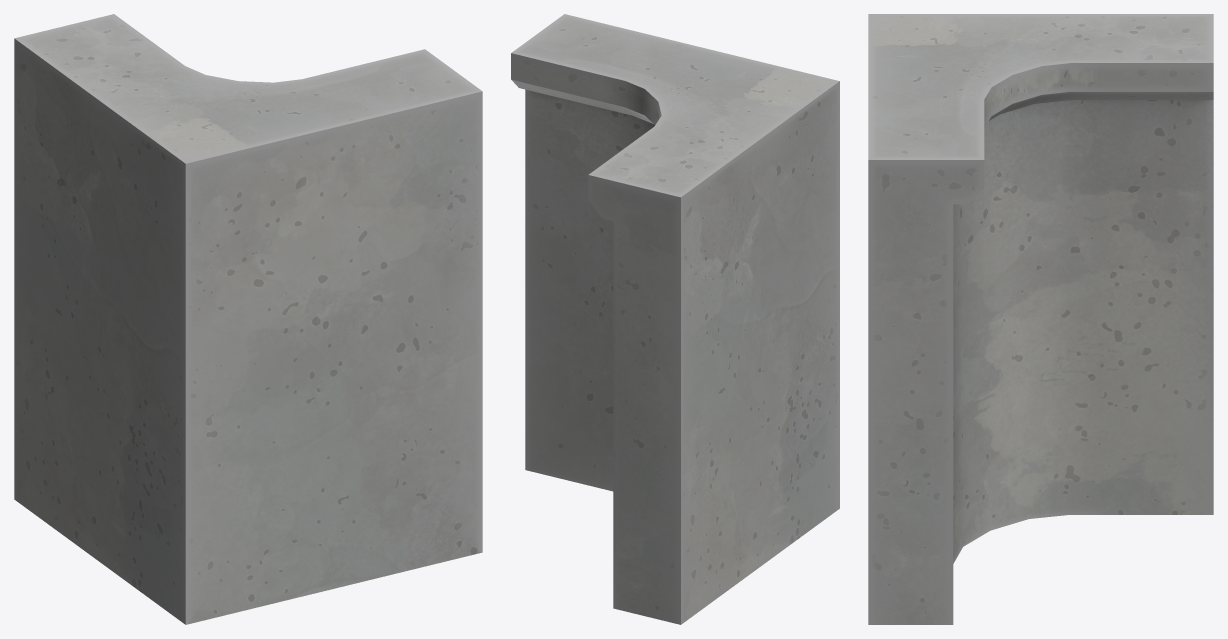
Rendered from Corner In.fbx.
3 views of the same model, side by side, from view 1: azimuth 30°, elevation 25°; view 2: azimuth 150°, elevation 25°; view 3: azimuth 270°, elevation 25° (orthographic). The views are drawn at different scales.
Visible parts, largest first — view 1: Corner In; view 2: Corner In; view 3: Corner In.
Boxes of the visible parts, left/top/right/bottom form: Corner In: left=14, top=14, right=482, bottom=624; Corner In: left=511, top=14, right=839, bottom=624; Corner In: left=868, top=14, right=1213, bottom=624.
Bounding box in the file's own units: 301 × 447 × 301.
Materials: 1 (1 with a texture image).
